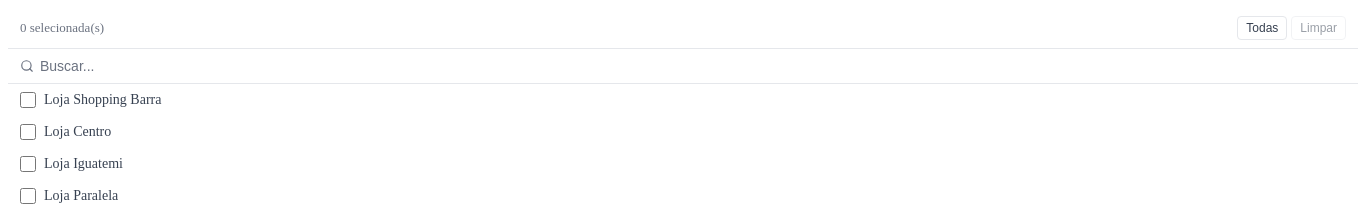
it: MultiSelectFilter › Busca › RF16: filtra opcoes pelo label
The width and height of the screenshot is (1366, 221).
Type "Shopping" into the field with class "multi-select-filter__search-input" at (692, 66), box x1=38 y1=57 x2=1346 y2=75
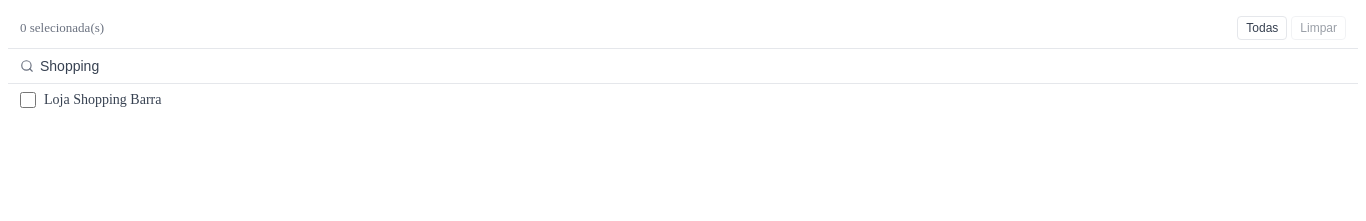
Expected: the element with class "multi-select-filter__option" shows "Shopping Barra", x1=44 y1=92 x2=161 y2=107
Now the number of elements with class "multi-select-filter__option" is 1, box x1=20 y1=92 x2=161 y2=108
